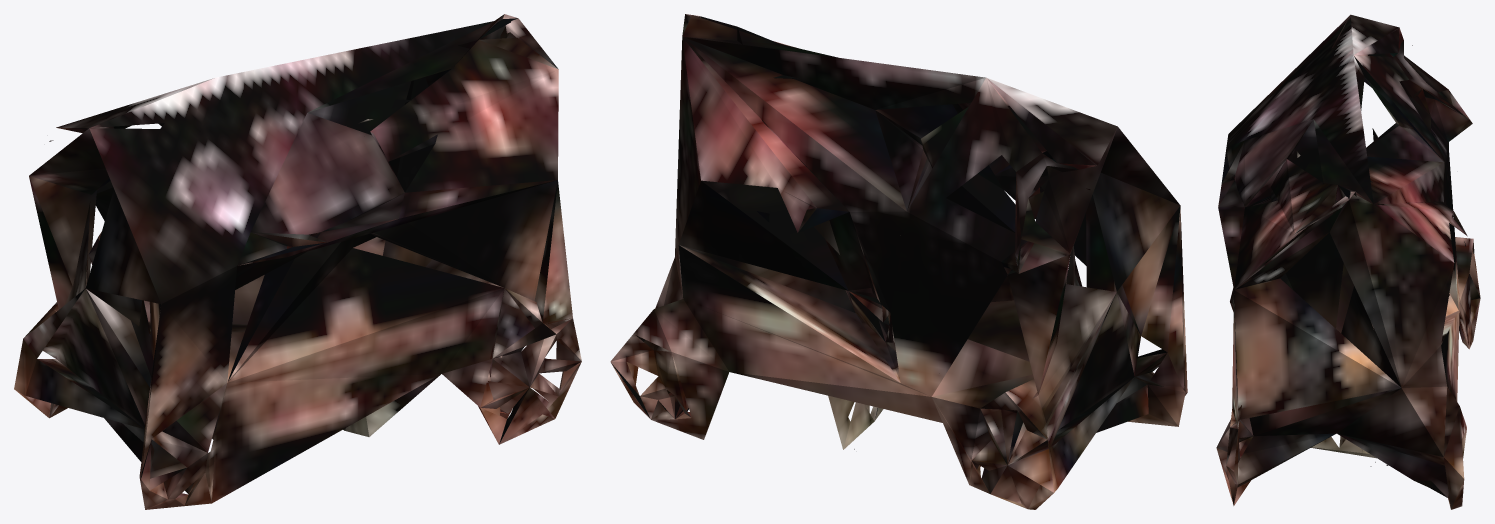
The model's file is ga3_ram_lod2.glb.
3 views of the same model, side by side, from view 1: azimuth 30°, elevation 25°; view 2: azimuth 150°, elevation 25°; view 3: azimuth 270°, elevation 25° (orthographic). The views are drawn at different scales.
Visible parts, largest first — view 1: ga3_ram_lod2; view 2: ga3_ram_lod2; view 3: ga3_ram_lod2.
Boxes of the visible parts, left/top/right/bottom form: ga3_ram_lod2: left=14, top=14, right=581, bottom=509; ga3_ram_lod2: left=610, top=14, right=1187, bottom=509; ga3_ram_lod2: left=1216, top=14, right=1480, bottom=509.
Bounding box in the file's own units: 5.56 × 4.56 × 3.05.
Materials: 1 (1 with a texture image).
